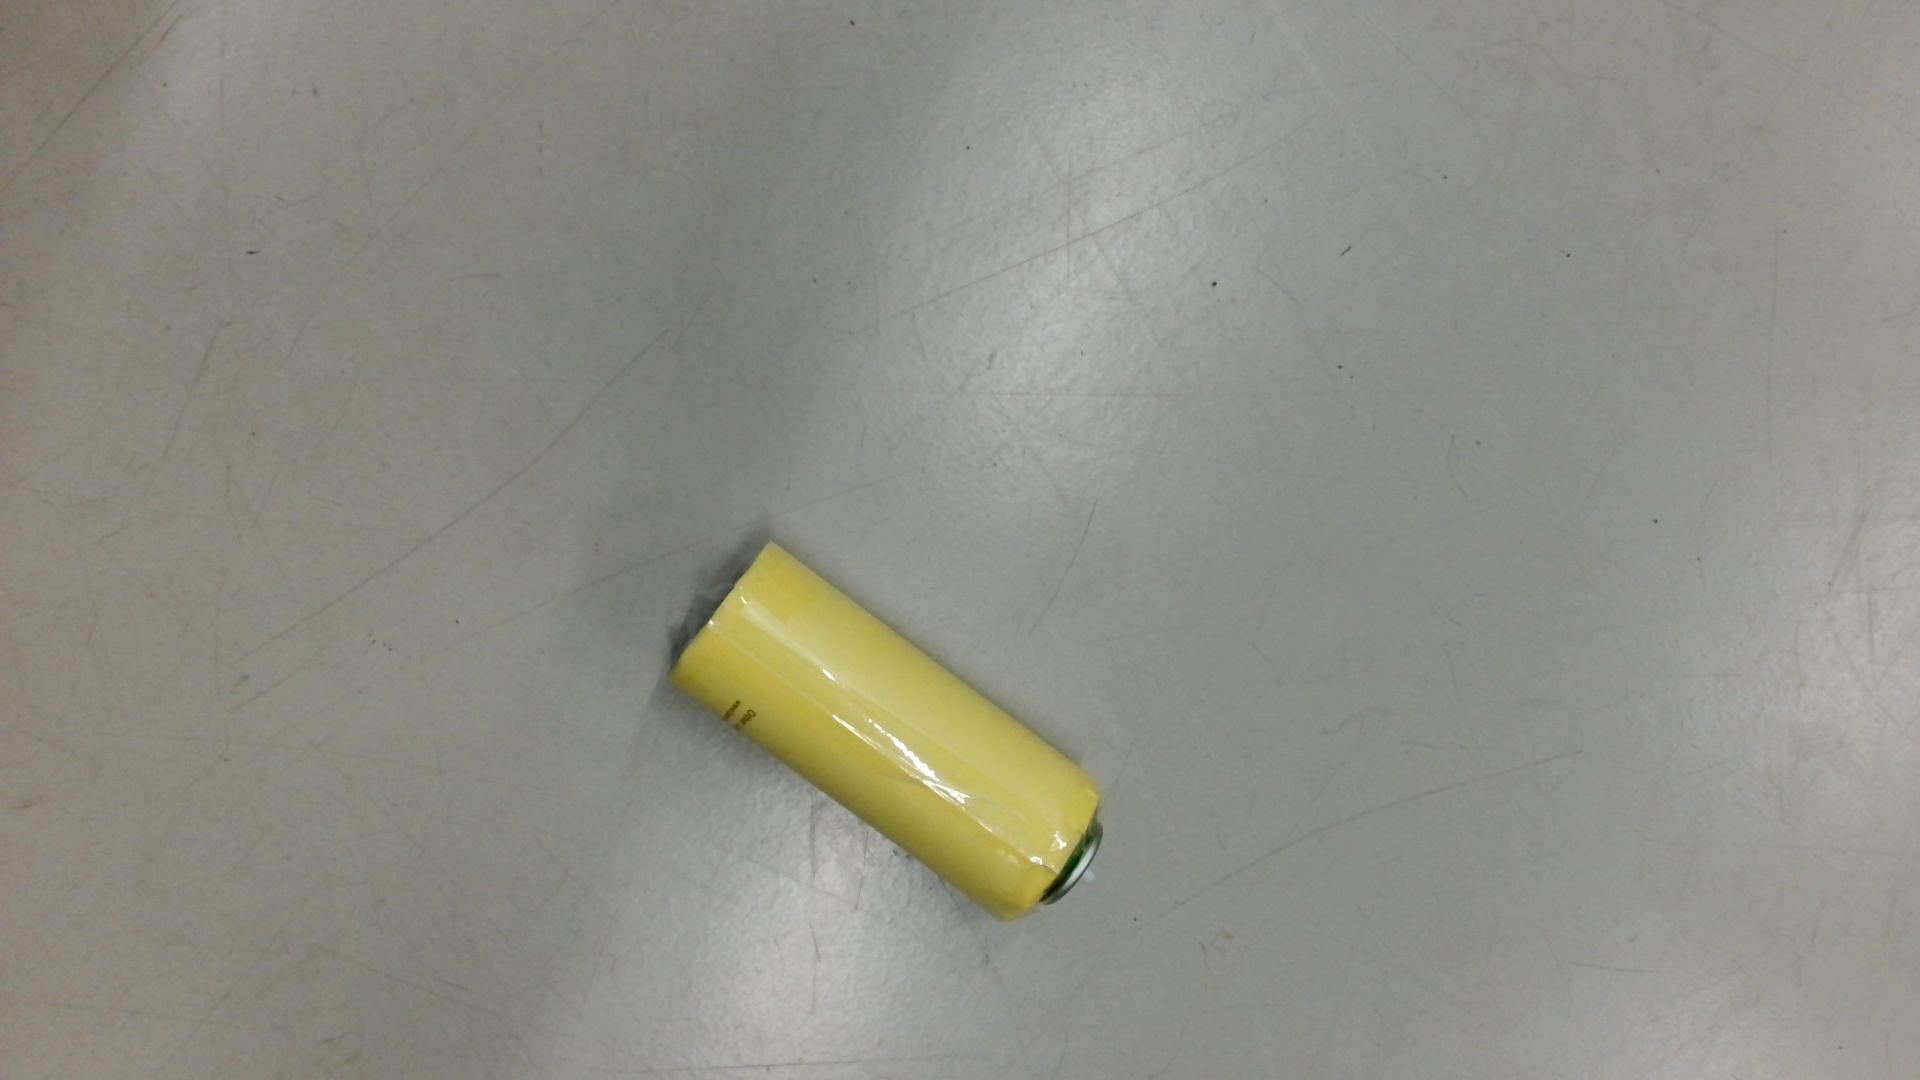Cylinder: (651, 530, 1120, 936)
